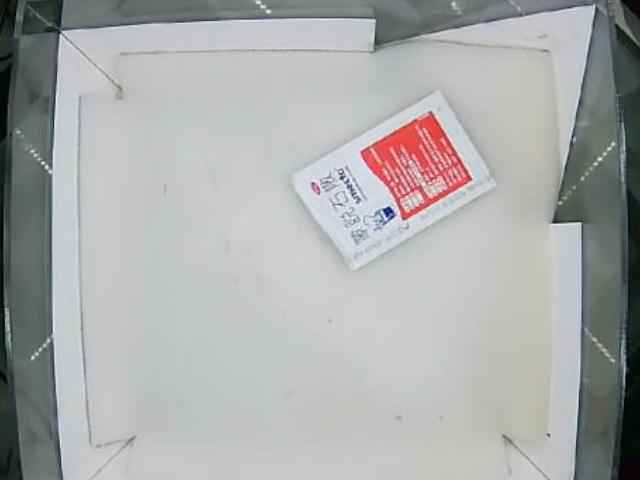Medicine: (288, 88, 498, 269)
